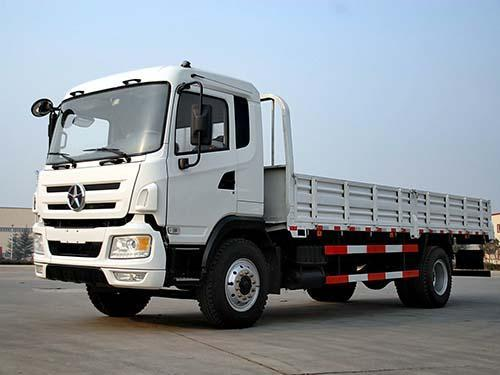truck: (25, 55, 492, 328)
